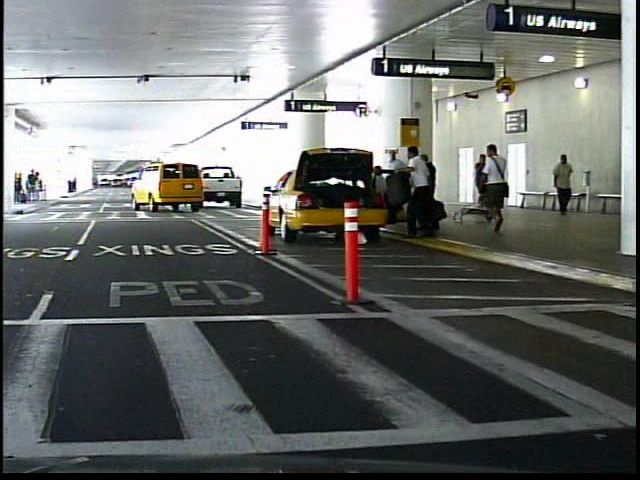person: (475, 141, 511, 236), (544, 150, 571, 215)
